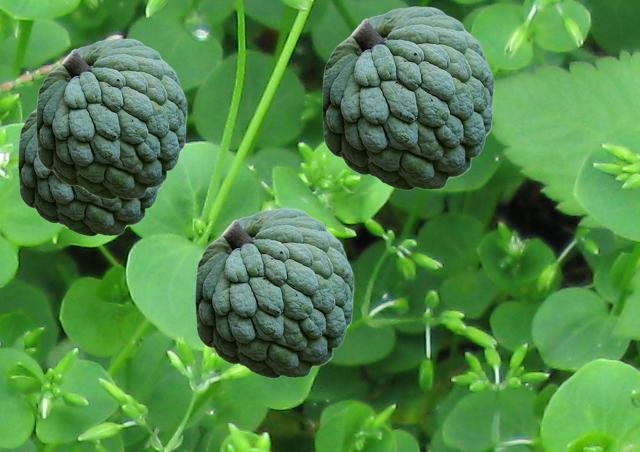atis: (322, 6, 493, 189), (195, 208, 353, 377), (36, 38, 186, 198), (18, 109, 163, 235)
